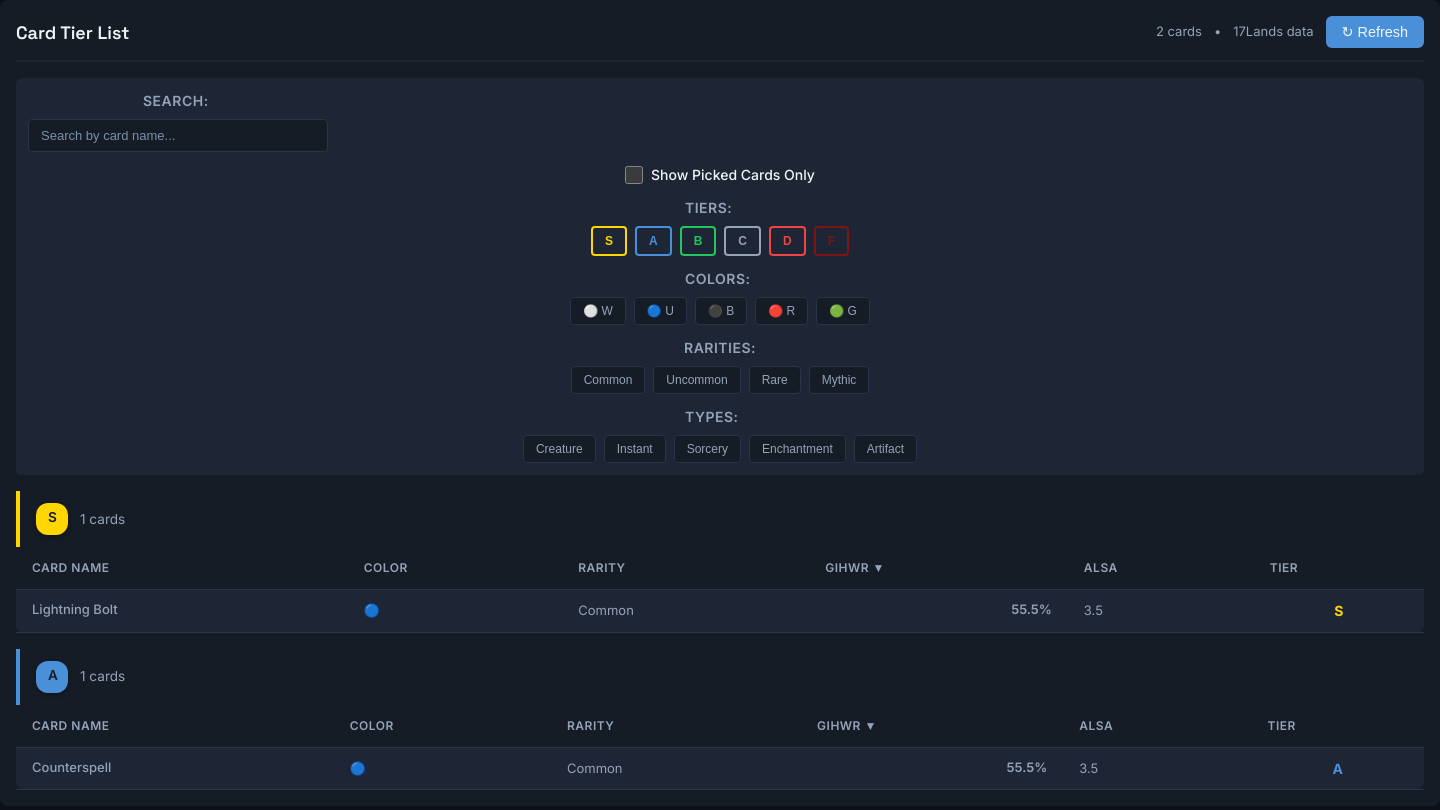
Test: TierList Component › Search Functionality › should clear search when clear button is clicked
Expected: the text "Lightning Bolt" is shown, [16,592,348,628]
Expected: the text "Counterspell" is shown, [16,750,334,785]
Note: Search for "lightning"
Type "lightning" into the field with placeholder "Search by card name...". click: (178, 136)
box: [28,119,328,152]
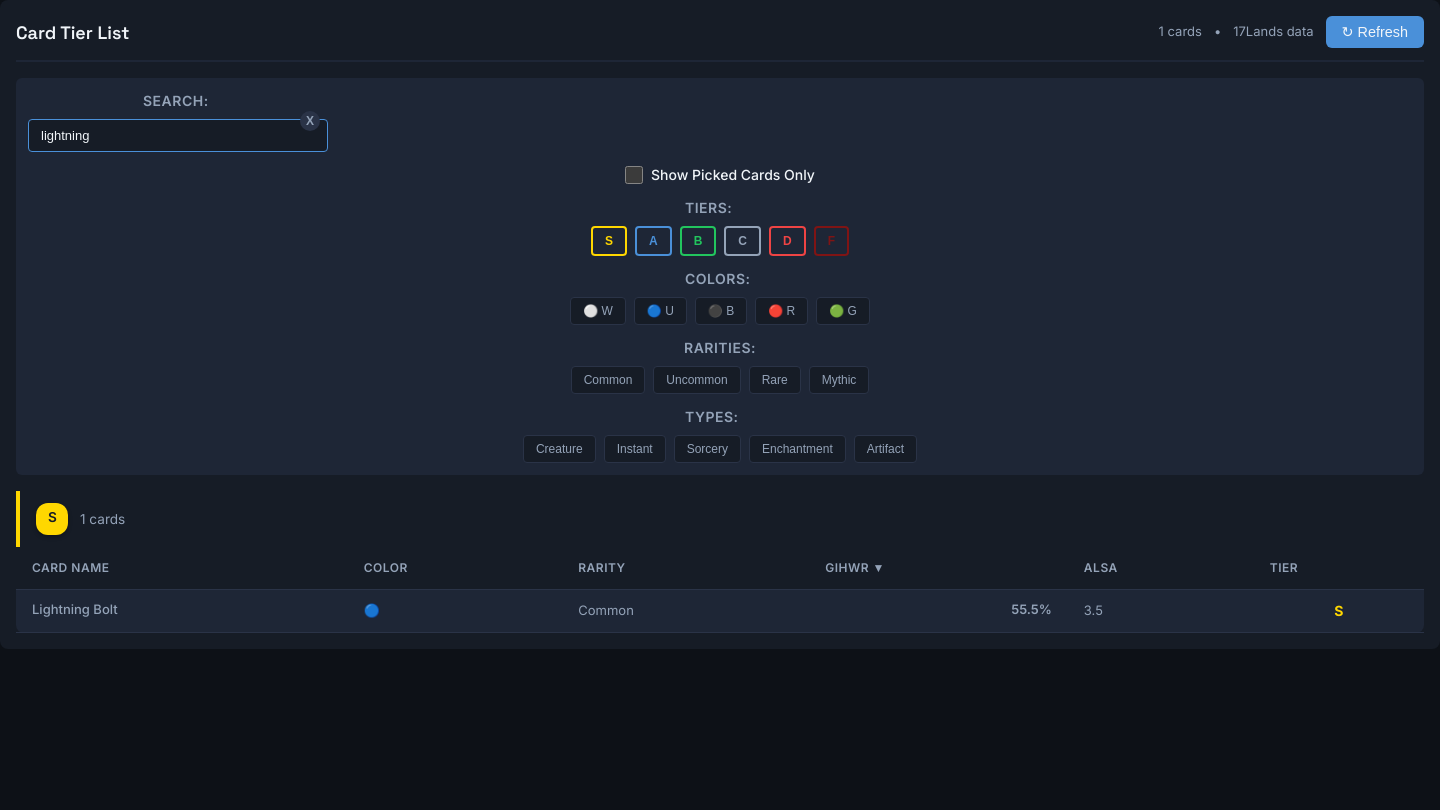
Expected: the text "Lightning Bolt" is shown, [16,592,348,628]
Result: the text "Counterspell" is gone
Note: Click clear button
Click the button titled "Clear search". click: (310, 121)
box: [300,111,320,131]
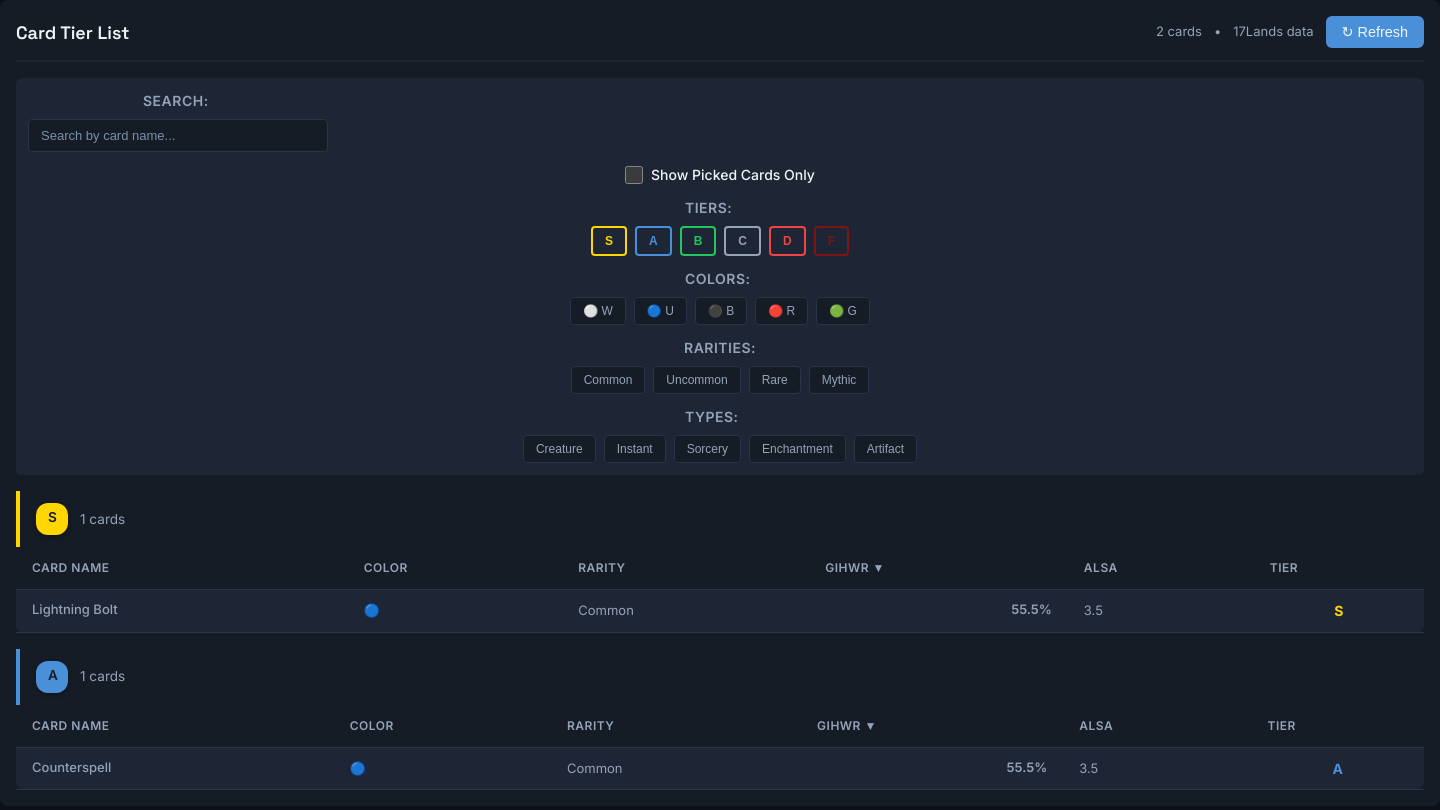
Expected: the text "Lightning Bolt" is shown, [16,592,348,628]
Result: the text "Counterspell" is shown at [16,750,334,785]
